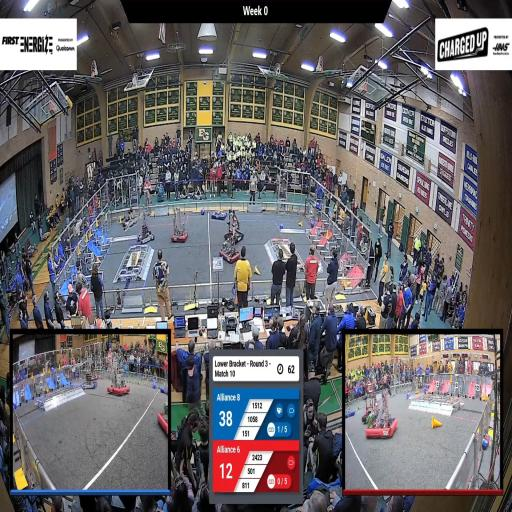robot: (223, 206, 246, 248), (169, 205, 190, 247), (218, 231, 241, 267), (137, 210, 156, 250), (208, 198, 228, 223), (123, 202, 137, 230)
